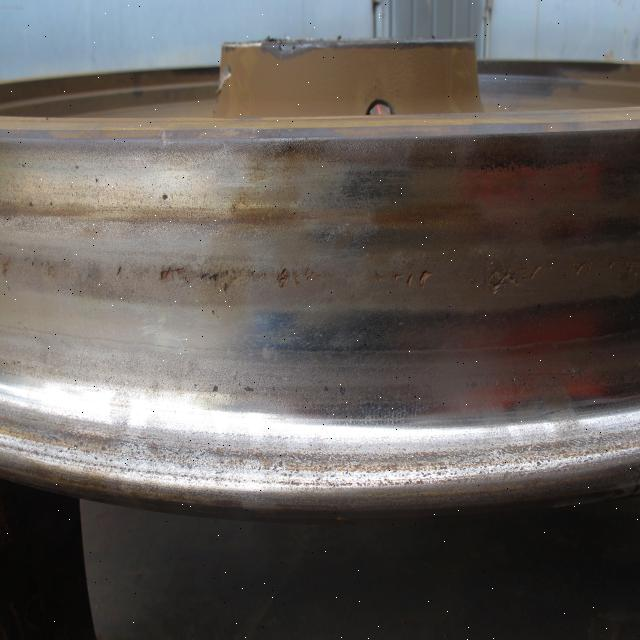boli: (156, 259, 327, 293), (390, 263, 441, 292)
